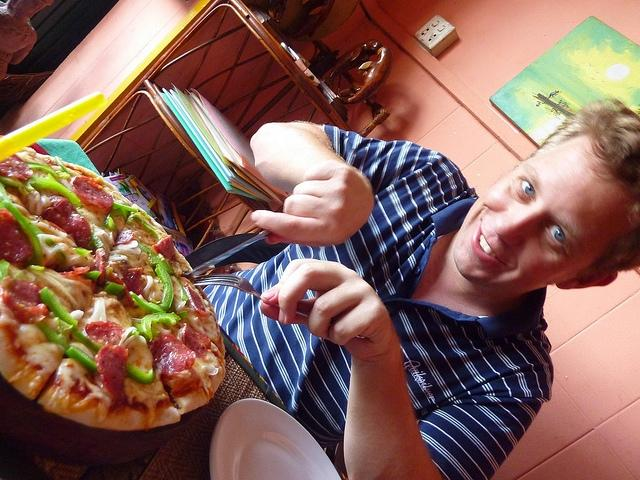bell pepper: (36, 320, 97, 372), (0, 200, 42, 269), (24, 176, 81, 210), (41, 286, 78, 332), (135, 312, 181, 342), (138, 243, 175, 275), (155, 264, 173, 311), (129, 291, 167, 313), (71, 330, 104, 352), (126, 361, 156, 384), (0, 176, 30, 196), (26, 162, 58, 178), (105, 282, 125, 299), (143, 223, 159, 241), (113, 202, 137, 213), (80, 271, 102, 281), (1, 258, 10, 280), (54, 170, 70, 180), (166, 300, 176, 313), (108, 216, 115, 230), (128, 211, 143, 216)
